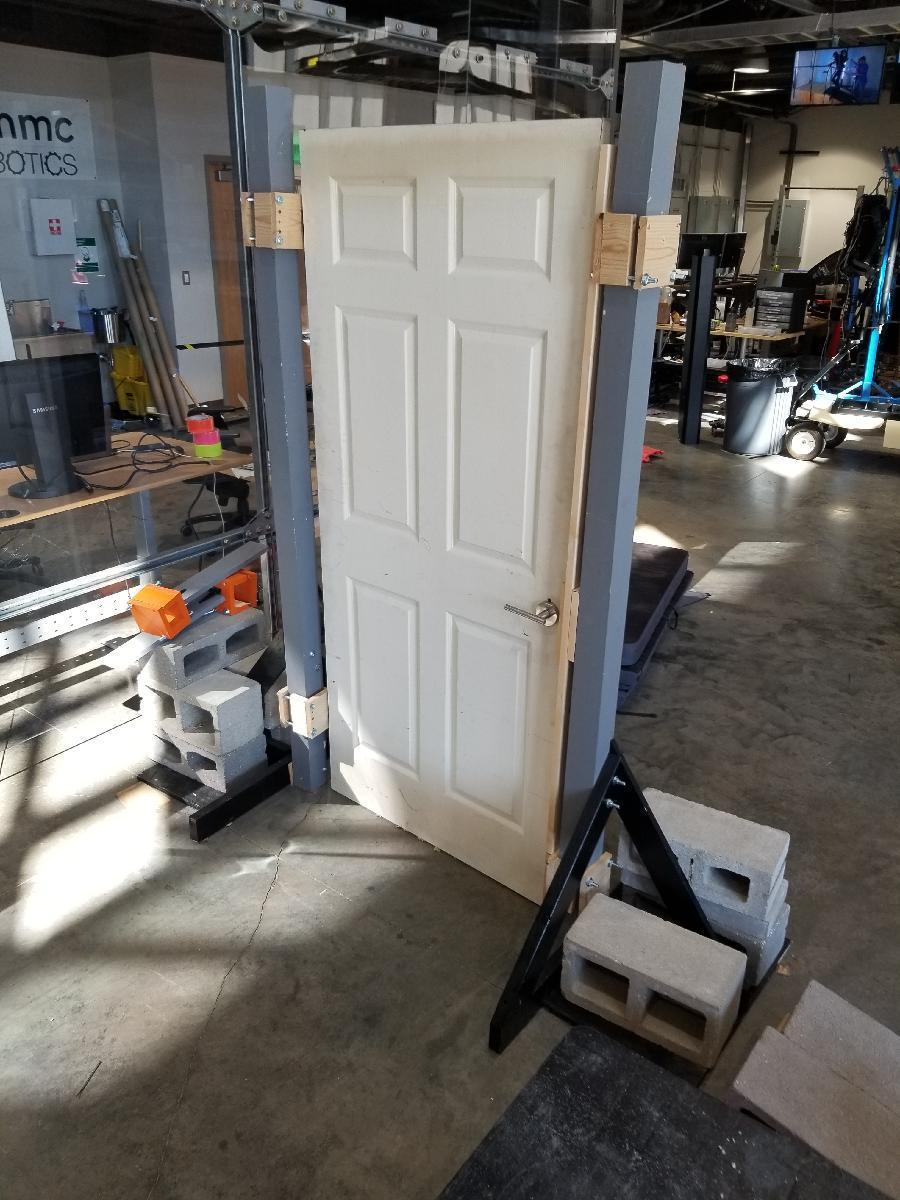door: (289, 121, 580, 850)
handle: (496, 590, 562, 634)
